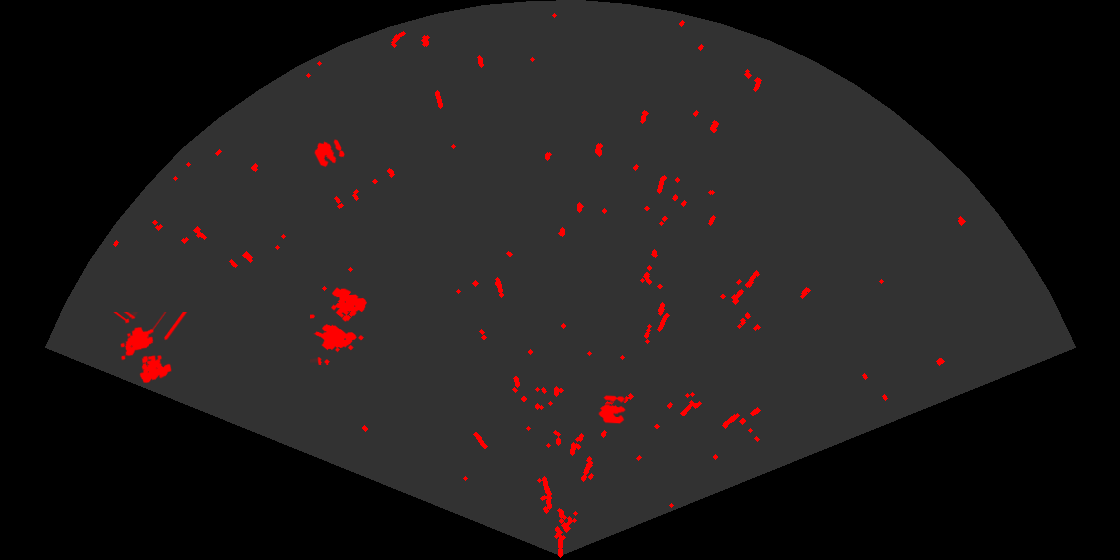ball: (313, 138, 346, 169), (597, 394, 627, 426)
cage: (112, 312, 189, 385), (310, 286, 368, 365)
